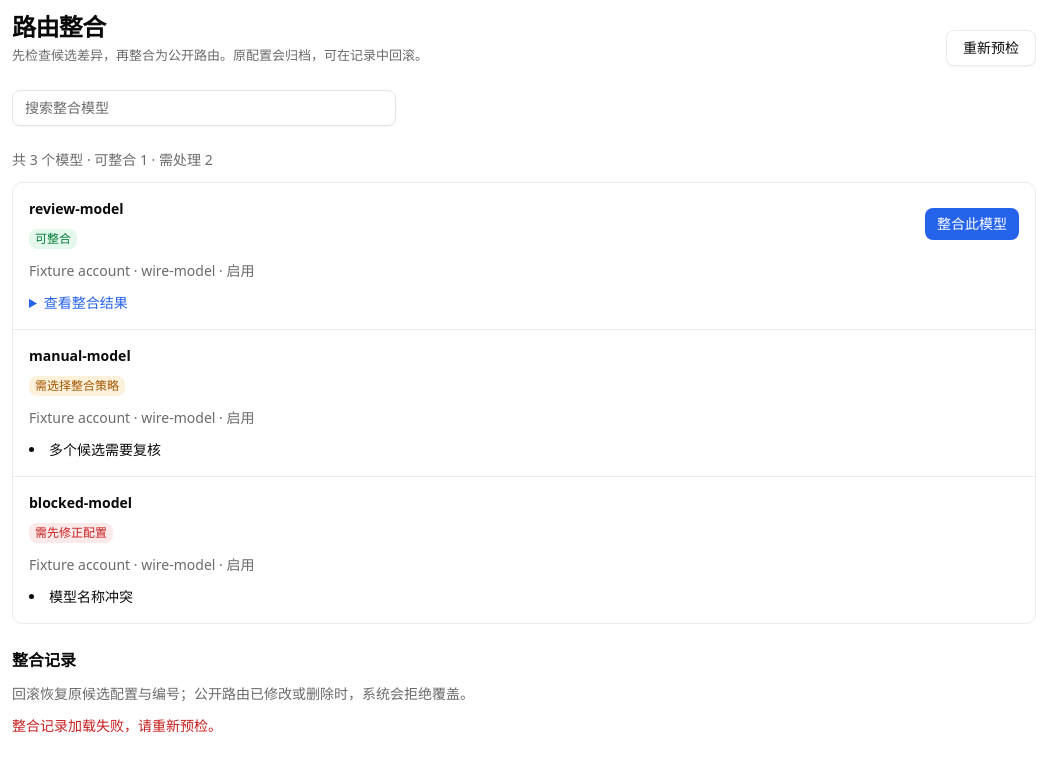
Test: handles empty states and failed history without losing preflight
expect the message shows "整合记录加载失败": met, box [12,716,222,734]
expect the heading "review-model" is shown: met, box [29,198,124,218]
Click the button "重新预检" at (991, 48), box [946,30,1036,66]
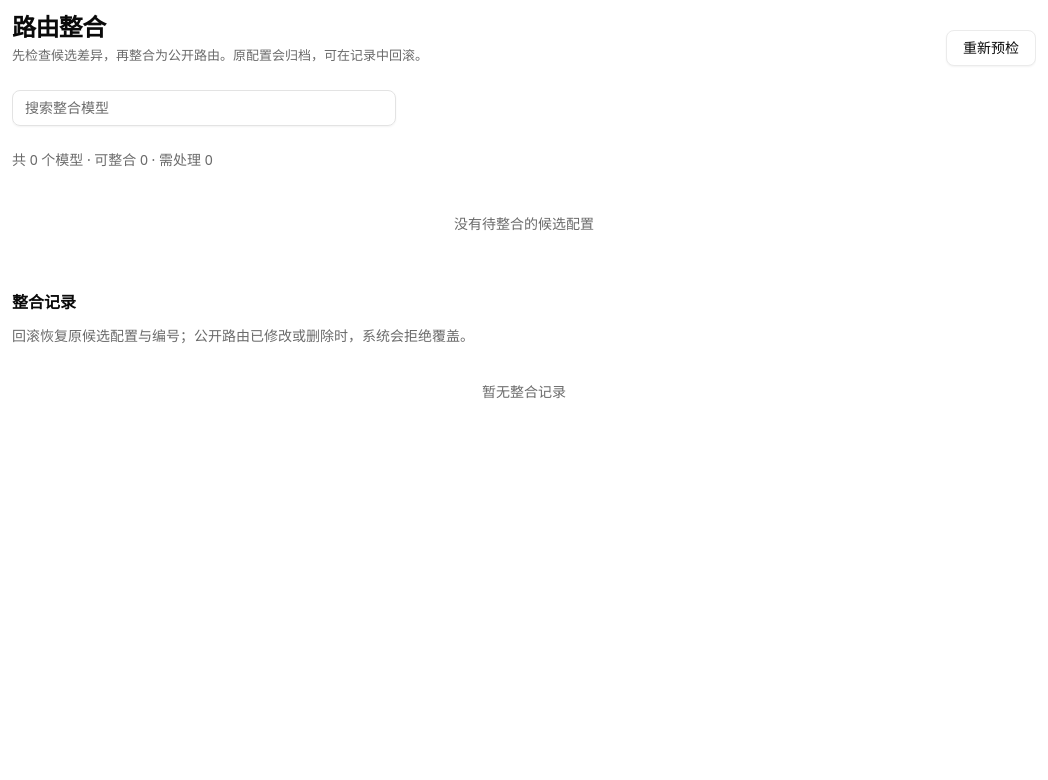
expect the text "没有待整合的候选配置" is shown: met, box [454,214,594,232]
expect the text "暂无整合记录" is shown: met, box [482,382,566,400]
